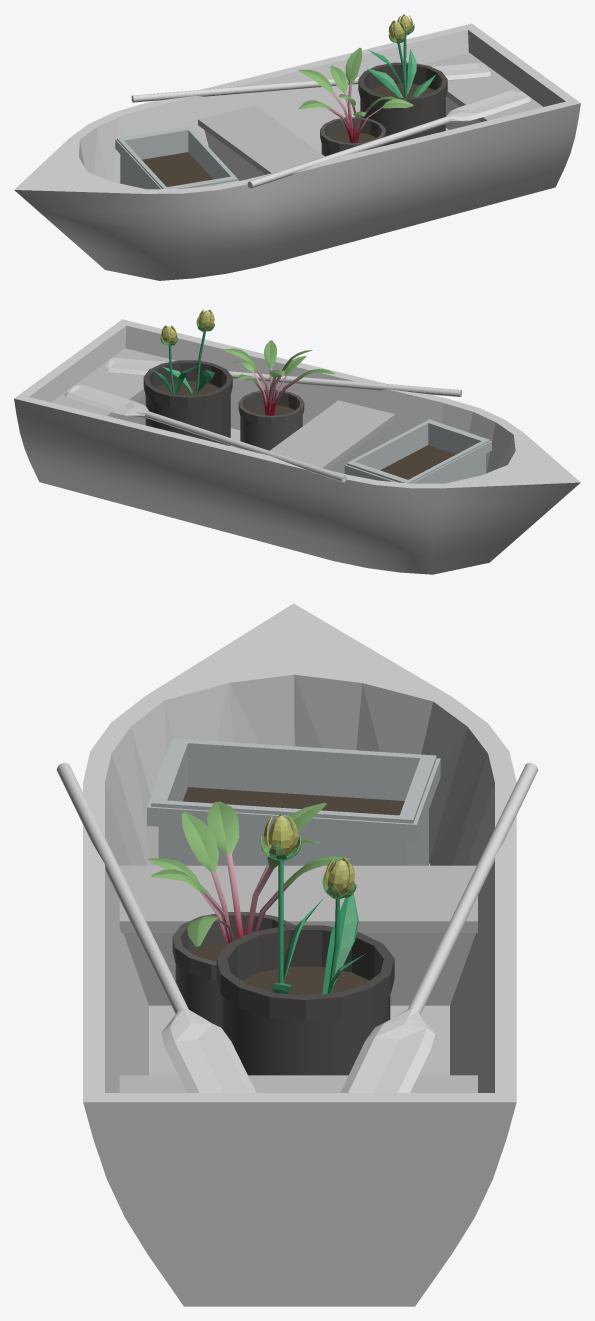
Rendered from BoatGarden.FBX.
3 views of the same model, one above another, from view 1: azimuth 30°, elevation 25°; view 2: azimuth 150°, elevation 25°; view 3: azimuth 270°, elevation 25° (orthographic). The views are drawn at different scales.
Parts seen in each view (by area): view 1: Boat, PotatoPot, Paddle (×2), Pot_Tulips, Tubers, Tulips, Pot_Tubers; view 2: Boat, PotatoPot, Paddle (×2), Pot_Tulips, Pot_Tubers, Tubers, Tulips; view 3: Boat, PotatoPot, Pot_Tulips, Paddle (×2), Tubers, Tulips, Pot_Tubers.
Boxes of the visible parts, x1=… form: Boat: x1=14, y1=23, x2=580, y2=280; PotatoPot: x1=115, y1=126, x2=238, y2=189; Paddle (×2): x1=131, y1=63, x2=530, y2=188; Pot_Tulips: x1=358, y1=62, x2=447, y2=145; Tubers: x1=298, y1=47, x2=413, y2=143; Tulips: x1=367, y1=14, x2=436, y2=97; Pot_Tubers: x1=320, y1=117, x2=385, y2=156; Boat: x1=14, y1=319, x2=580, y2=574; PotatoPot: x1=344, y1=419, x2=491, y2=483; Paddle (×2): x1=64, y1=358, x2=462, y2=482; Pot_Tulips: x1=143, y1=360, x2=232, y2=445; Pot_Tubers: x1=238, y1=390, x2=304, y2=450; Tubers: x1=224, y1=340, x2=335, y2=415; Tulips: x1=151, y1=309, x2=214, y2=394; Boat: x1=83, y1=603, x2=516, y2=1306; PotatoPot: x1=147, y1=738, x2=440, y2=865; Pot_Tulips: x1=216, y1=925, x2=394, y2=1075; Paddle (×2): x1=56, y1=762, x2=538, y2=1092; Tubers: x1=147, y1=801, x2=349, y2=946; Tulips: x1=260, y1=813, x2=364, y2=994; Pot_Tubers: x1=172, y1=912, x2=294, y2=1027.
Bounding box in the file's own units: 54.19 × 18.24 × 22.12.
